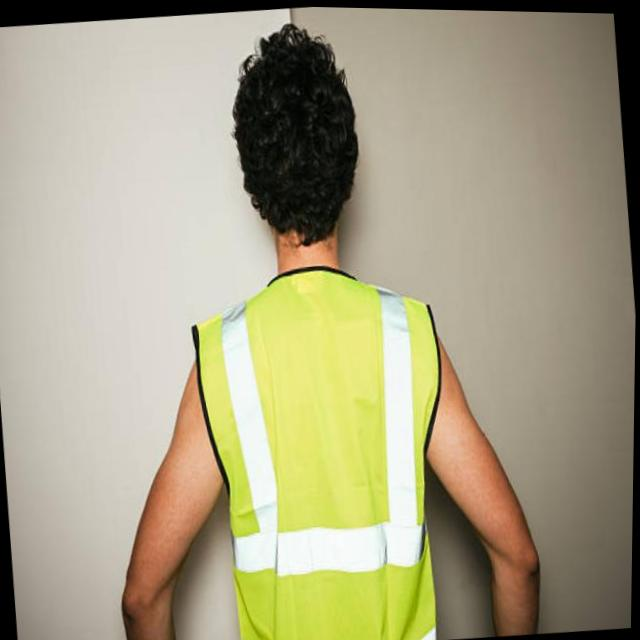no helmet: (225, 25, 370, 263)
